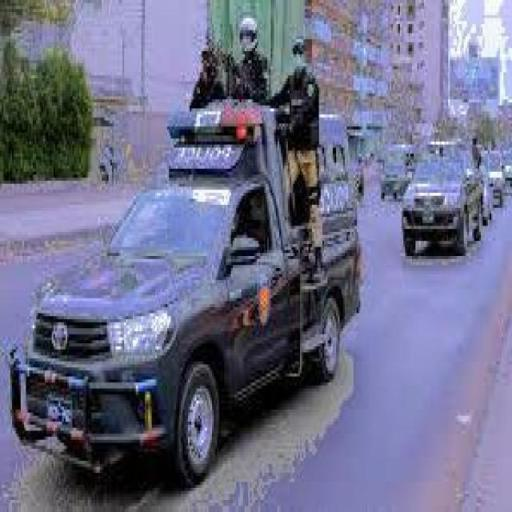Ambulance: (10, 100, 362, 470)
